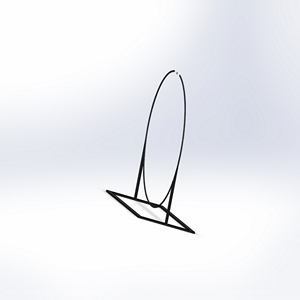circle: (103, 68, 198, 234)
